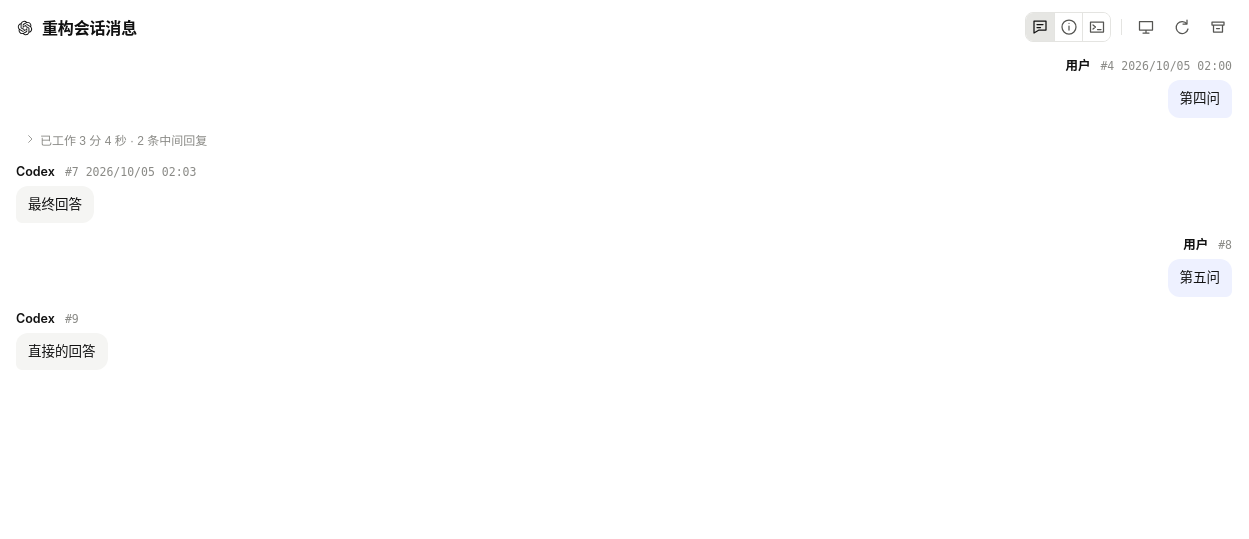
Test: collapses each turn's intermediates into a block that expands and collapses in place
The image size is (1249, 539).
Check: the button "第四问" is shown, box [1168, 80, 1232, 118]
Check: the text "#4 2026/10/05 02:00" is shown, box [1100, 57, 1232, 75]
// 展开：取数范围正是 [boundary, final)，中间消息按序插在提问与最终回复之间。
Click the button "已工作 3 分 4 秒 · 2 条中间回复" at (116, 139), box [16, 128, 215, 151]
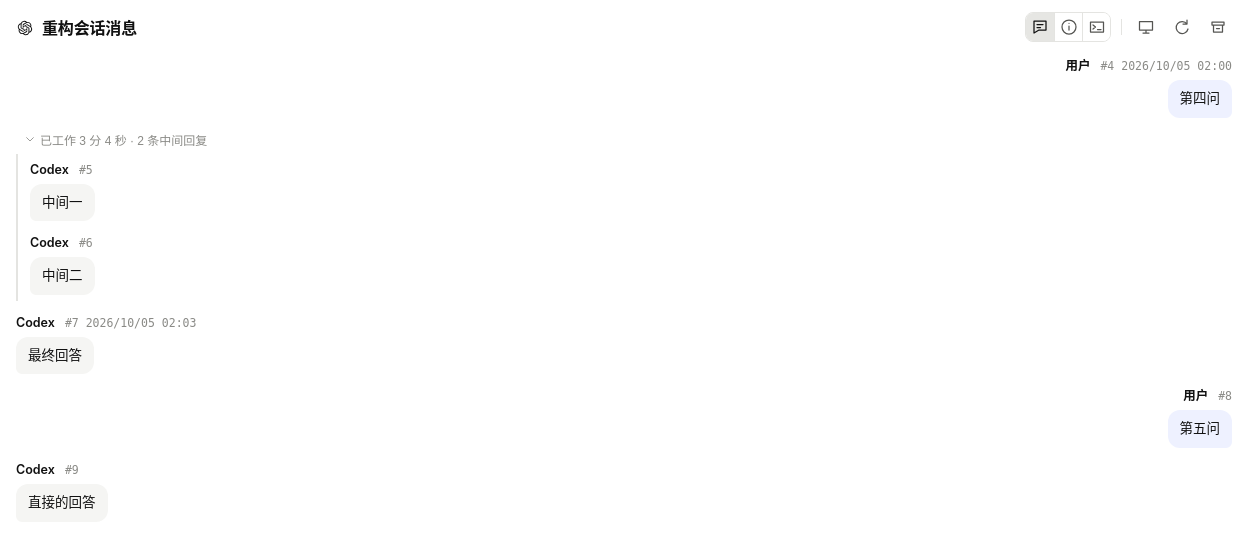
Check: the button "中间一" is shown, box [30, 184, 94, 221]
Check: the button "中间二" is shown, box [30, 257, 94, 295]
Check: the text "#5" is shown, box [79, 161, 93, 179]
// 收起即丢：中间消息消失，摘要还在；再展开是再取一次。
Click the button "已工作 3 分 4 秒 · 2 条中间回复" at (116, 139), box [16, 128, 215, 151]
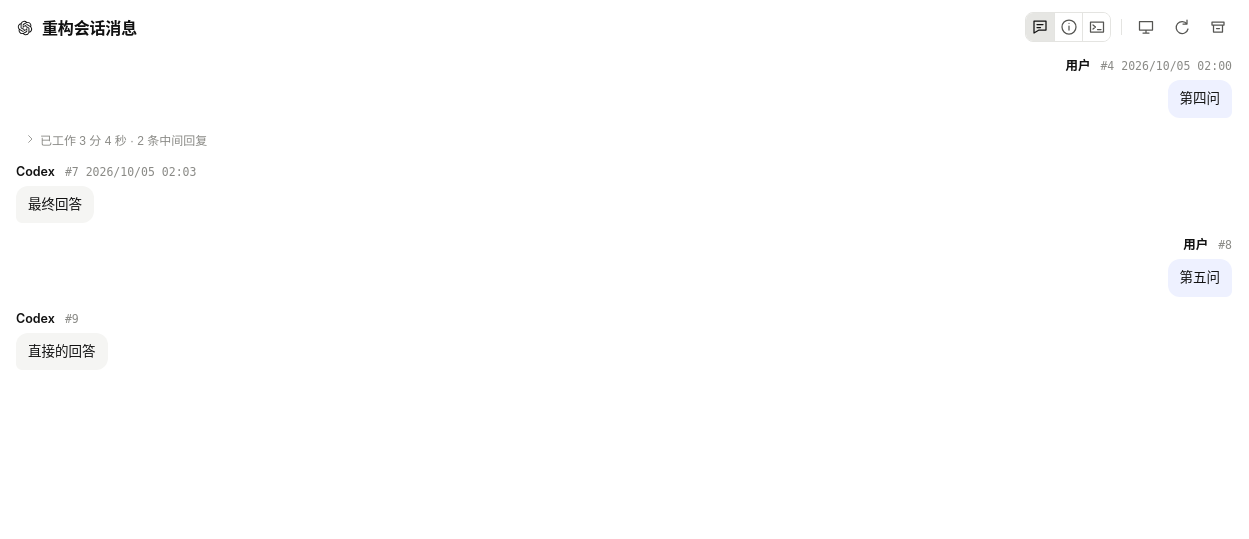
Check: the button "中间一" is gone
Click the button "已工作 3 分 4 秒 · 2 条中间回复" at (116, 139), box [16, 128, 215, 151]
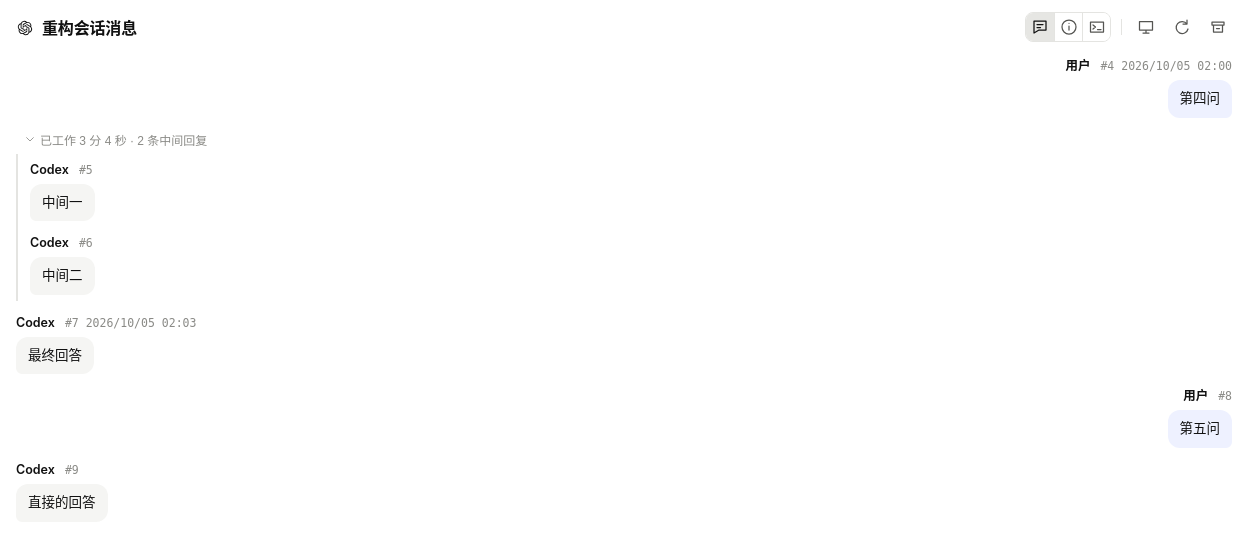
Check: the button "中间一" is shown, box [30, 184, 94, 221]
